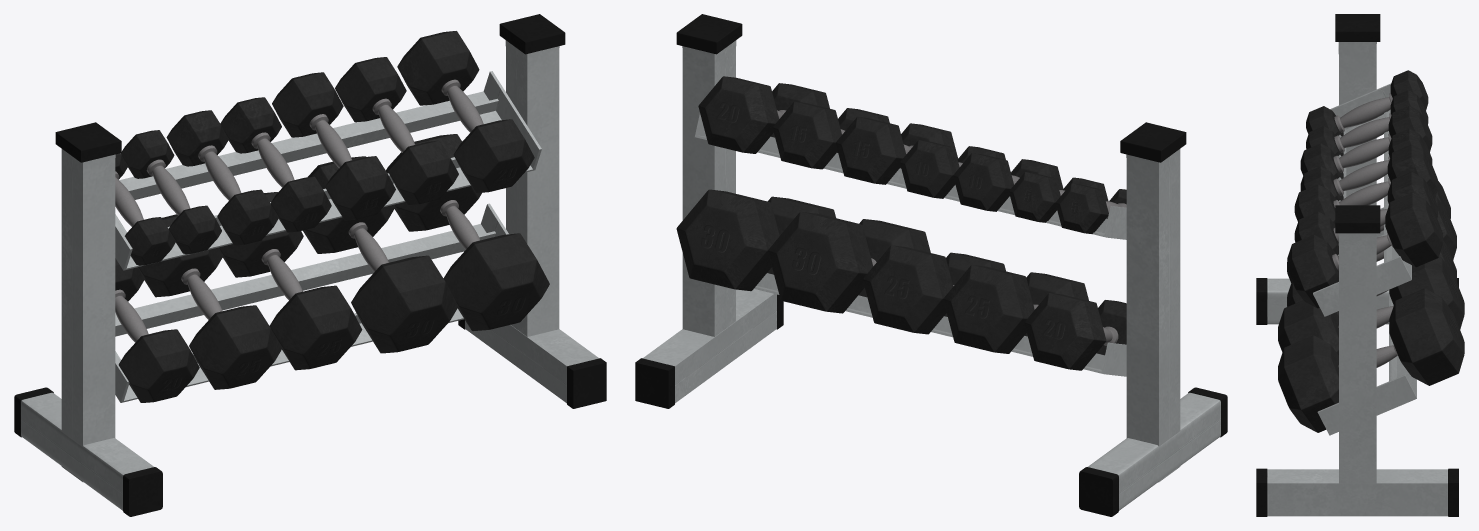
File: dumbell_rack.glb
The picture shows the model from 3 angles, left to right: view 1: azimuth 30°, elevation 25°; view 2: azimuth 150°, elevation 25°; view 3: azimuth 270°, elevation 25°; orthographic projection. The views are drawn at different scales.
Visible parts, largest first — view 1: HG Weight Rack.Shape, HQ Weight 30.Shape, HQ Weight 30_dup_2.Shape, HQ Weight 20.Shape, HQ Weight 25.Shape, HQ Weight 25_dup_2.Shape, HQ Weight 15.Shape, HQ Weight 15_dup_2.Shape, HQ Weight 20_dup_2.Shape, HQ Weight 10.Shape, HQ Weight 10_dup_2.Shape, HG Weight 05_dup_2.Shape (+1 smaller); view 2: HG Weight Rack.Shape, HQ Weight 30.Shape, HQ Weight 30_dup_2.Shape, HQ Weight 25.Shape, HQ Weight 25_dup_2.Shape, HQ Weight 20_dup_2.Shape, HQ Weight 20.Shape, HQ Weight 15.Shape, HQ Weight 15_dup_2.Shape, HQ Weight 10.Shape, HQ Weight 10_dup_2.Shape, HG Weight 05.Shape (+1 smaller); view 3: HG Weight Rack.Shape, HQ Weight 30_dup_2.Shape, HQ Weight 20.Shape, HQ Weight 30.Shape, HQ Weight 15.Shape, HQ Weight 10.Shape, HG Weight 05.Shape, HQ Weight 10_dup_2.Shape, HQ Weight 15_dup_2.Shape, HG Weight 05_dup_2.Shape, HQ Weight 25.Shape, HQ Weight 25_dup_2.Shape (+1 smaller).
Part boxes in pixels (bbox=[...]): HG Weight Rack.Shape: bbox=[14, 14, 606, 516]; HQ Weight 30.Shape: bbox=[303, 156, 458, 353]; HQ Weight 30_dup_2.Shape: bbox=[386, 134, 549, 331]; HQ Weight 20.Shape: bbox=[397, 31, 534, 192]; HQ Weight 25.Shape: bbox=[138, 214, 281, 389]; HQ Weight 25_dup_2.Shape: bbox=[219, 192, 362, 370]; HQ Weight 15.Shape: bbox=[272, 72, 395, 220]; HQ Weight 15_dup_2.Shape: bbox=[335, 57, 458, 205]; HQ Weight 20_dup_2.Shape: bbox=[115, 258, 199, 402]; HQ Weight 10.Shape: bbox=[166, 110, 278, 245]; HQ Weight 10_dup_2.Shape: bbox=[220, 97, 331, 232]; HG Weight 05_dup_2.Shape: bbox=[121, 130, 221, 254]; HG Weight Rack.Shape: bbox=[635, 14, 1227, 516]; HQ Weight 30.Shape: bbox=[768, 212, 930, 313]; HQ Weight 30_dup_2.Shape: bbox=[676, 189, 835, 291]; HQ Weight 25.Shape: bbox=[943, 265, 1088, 353]; HQ Weight 25_dup_2.Shape: bbox=[863, 245, 1005, 334]; HQ Weight 20_dup_2.Shape: bbox=[1024, 293, 1126, 370]; HQ Weight 20.Shape: bbox=[698, 76, 829, 153]; HQ Weight 15.Shape: bbox=[835, 117, 958, 184]; HQ Weight 15_dup_2.Shape: bbox=[772, 101, 889, 169]; HQ Weight 10.Shape: bbox=[953, 153, 1063, 211]; HQ Weight 10_dup_2.Shape: bbox=[900, 140, 1005, 198]; HG Weight 05.Shape: bbox=[1055, 183, 1126, 233]; HG Weight Rack.Shape: bbox=[1256, 14, 1458, 516]; HQ Weight 30_dup_2.Shape: bbox=[1278, 288, 1464, 432]; HQ Weight 20.Shape: bbox=[1287, 192, 1442, 308]; HQ Weight 30.Shape: bbox=[1278, 256, 1464, 355]; HQ Weight 15.Shape: bbox=[1294, 144, 1437, 224]; HQ Weight 10.Shape: bbox=[1300, 105, 1432, 178]; HG Weight 05.Shape: bbox=[1306, 70, 1428, 136]; HQ Weight 10_dup_2.Shape: bbox=[1300, 128, 1432, 200]; HQ Weight 15_dup_2.Shape: bbox=[1294, 171, 1437, 255]; HG Weight 05_dup_2.Shape: bbox=[1306, 90, 1428, 156]; HQ Weight 25.Shape: bbox=[1287, 197, 1456, 282]; HQ Weight 25_dup_2.Shape: bbox=[1287, 240, 1456, 315].
Size of the model in its own units: 0.9702 by 0.6411 by 0.4087.
26 materials, 26 textured.
